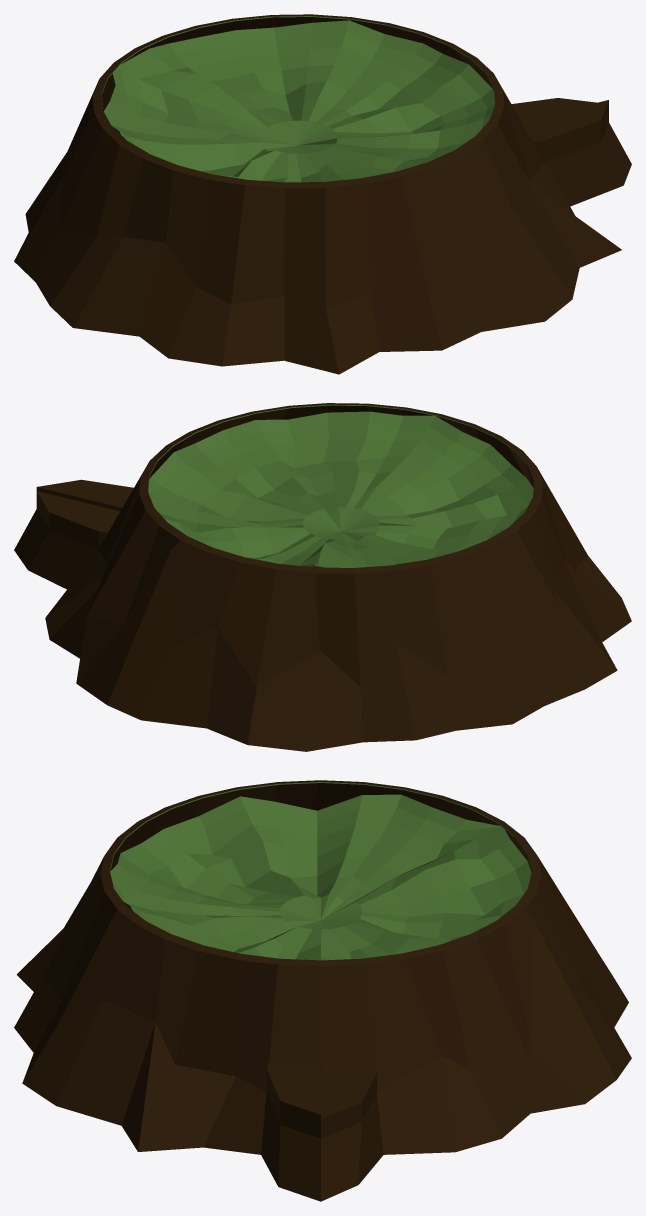
The model's file is Seongsan.glb.
3 views of the same model, one above another, from view 1: azimuth 30°, elevation 25°; view 2: azimuth 150°, elevation 25°; view 3: azimuth 270°, elevation 25° (orthographic). The views are drawn at different scales.
Visible parts, largest first — view 1: Cylinder.001; view 2: Cylinder.001; view 3: Cylinder.001.
Part boxes in pixels (x1,y1,x2,y2): Cylinder.001: [14, 14, 631, 374]; Cylinder.001: [14, 403, 631, 751]; Cylinder.001: [14, 780, 631, 1201].
Bounding box in the file's own units: 2.36 × 0.5658 × 2.01.
